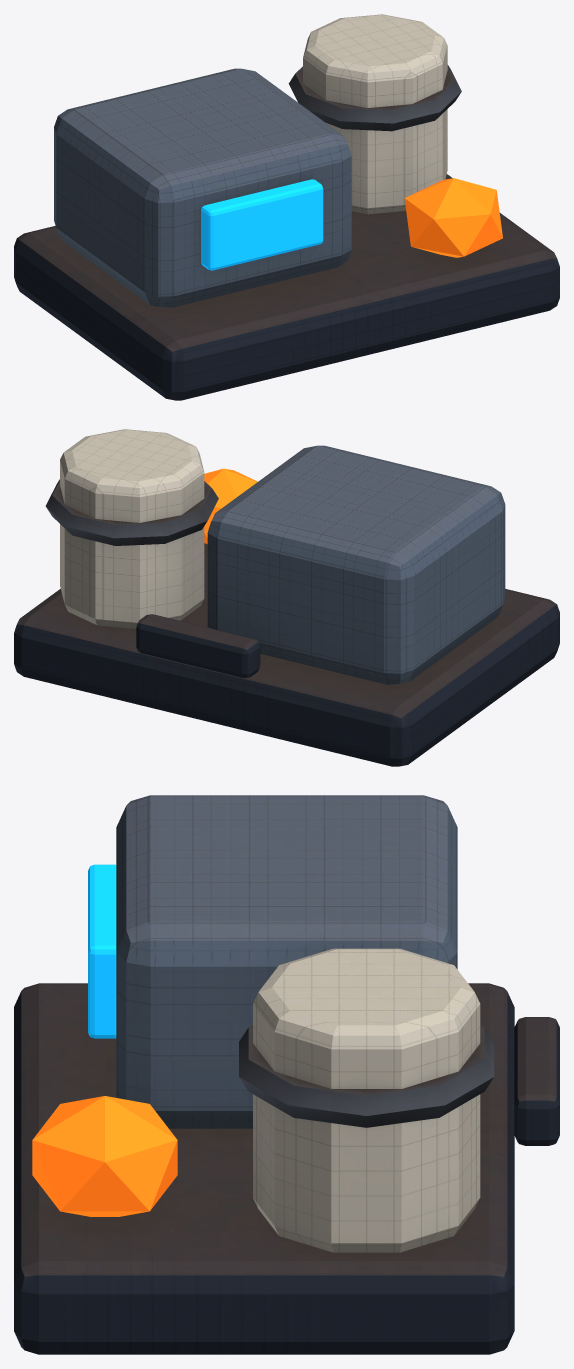
Rendered from material-cache.glb.
3 renders of one model, top to bottom at view 1: azimuth 30°, elevation 25°; view 2: azimuth 150°, elevation 25°; view 3: azimuth 270°, elevation 25°, orthographic. The views are drawn at different scales.
Visible parts, largest first — view 1: Android Graphite, Android Chassis, Android Ceramic, Android FactionAccent, Android ResourceOre; view 2: Android Chassis, Android Graphite, Android Ceramic, Android ResourceOre; view 3: Android Graphite, Android Chassis, Android Ceramic, Android ResourceOre, Android FactionAccent.
Boxes of the visible parts, bbox=[...] form: Android Graphite: bbox=[14, 65, 559, 400]; Android Chassis: bbox=[54, 68, 351, 307]; Android Ceramic: bbox=[303, 14, 447, 214]; Android FactionAccent: bbox=[201, 179, 323, 270]; Android ResourceOre: bbox=[404, 178, 502, 257]; Android Chassis: bbox=[207, 445, 505, 684]; Android Graphite: bbox=[14, 479, 559, 766]; Android Ceramic: bbox=[60, 429, 204, 628]; Android ResourceOre: bbox=[204, 468, 257, 544]; Android Graphite: bbox=[14, 983, 559, 1354]; Android Chassis: bbox=[116, 795, 457, 1128]; Android Ceramic: bbox=[253, 948, 480, 1252]; Android ResourceOre: bbox=[32, 1096, 177, 1216]; Android FactionAccent: bbox=[88, 864, 116, 1038].
Size of the model in its own units: 0.62 by 0.31 by 0.48.
Materials: 5 (3 with a texture image).
